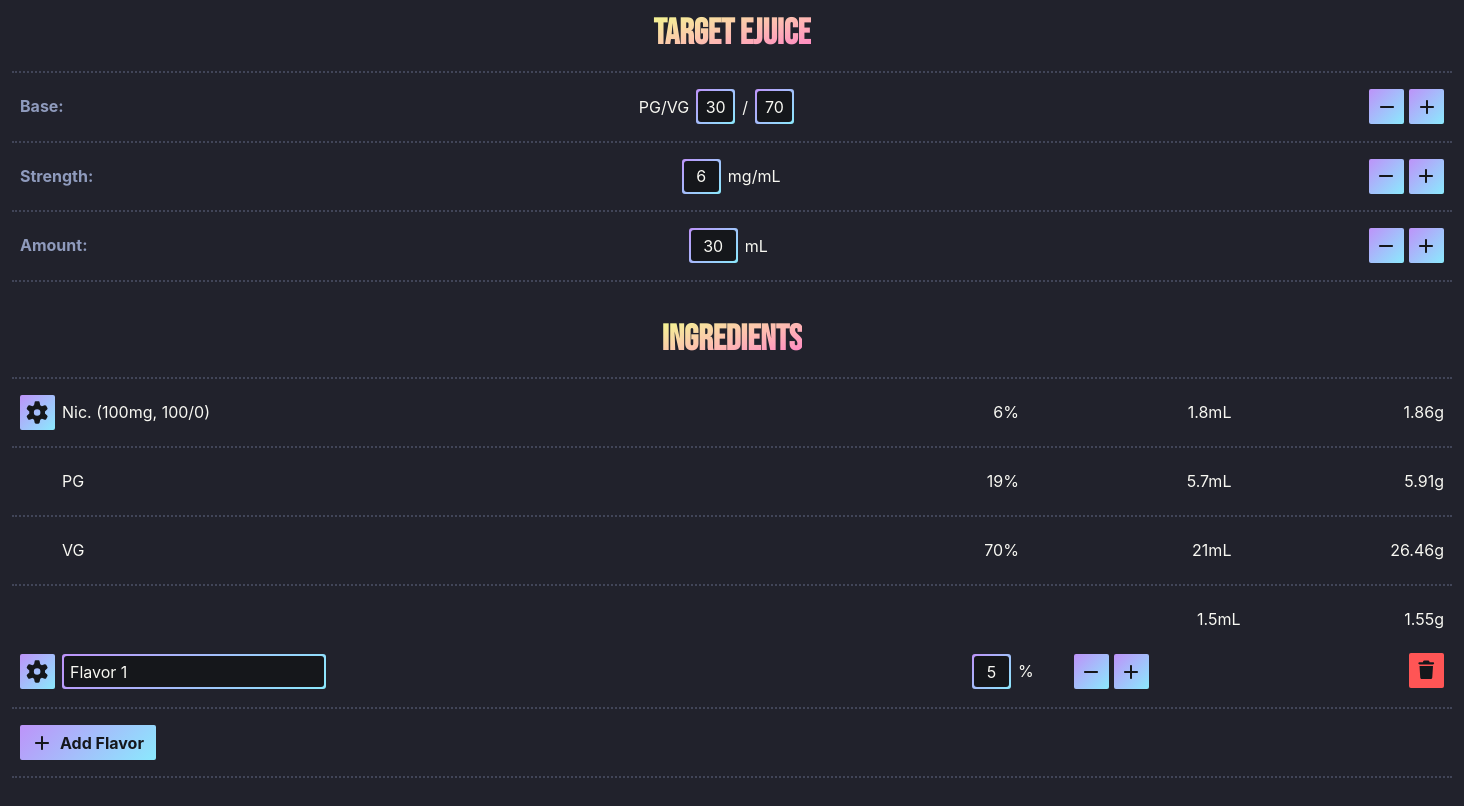
Test: VG › is calculated correctly from the nicotine ratio
The width and height of the screenshot is (1464, 806).
Click the button with test id "nicConfigBtn" at (38, 412), box [20, 394, 55, 430]
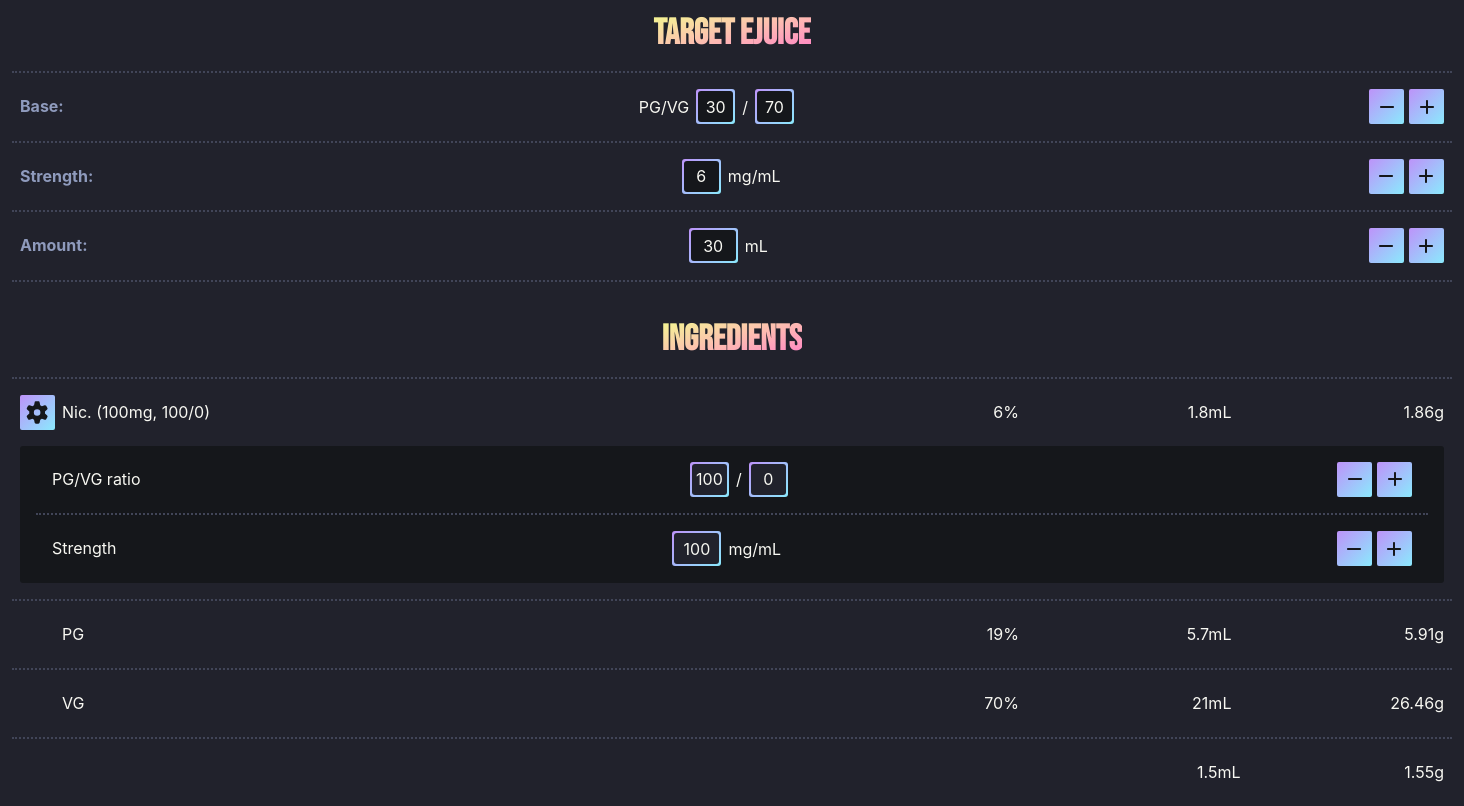
Replace the text in the number field with test id "nicConfigVgInput" with "100" at (768, 479), box [751, 464, 786, 494]
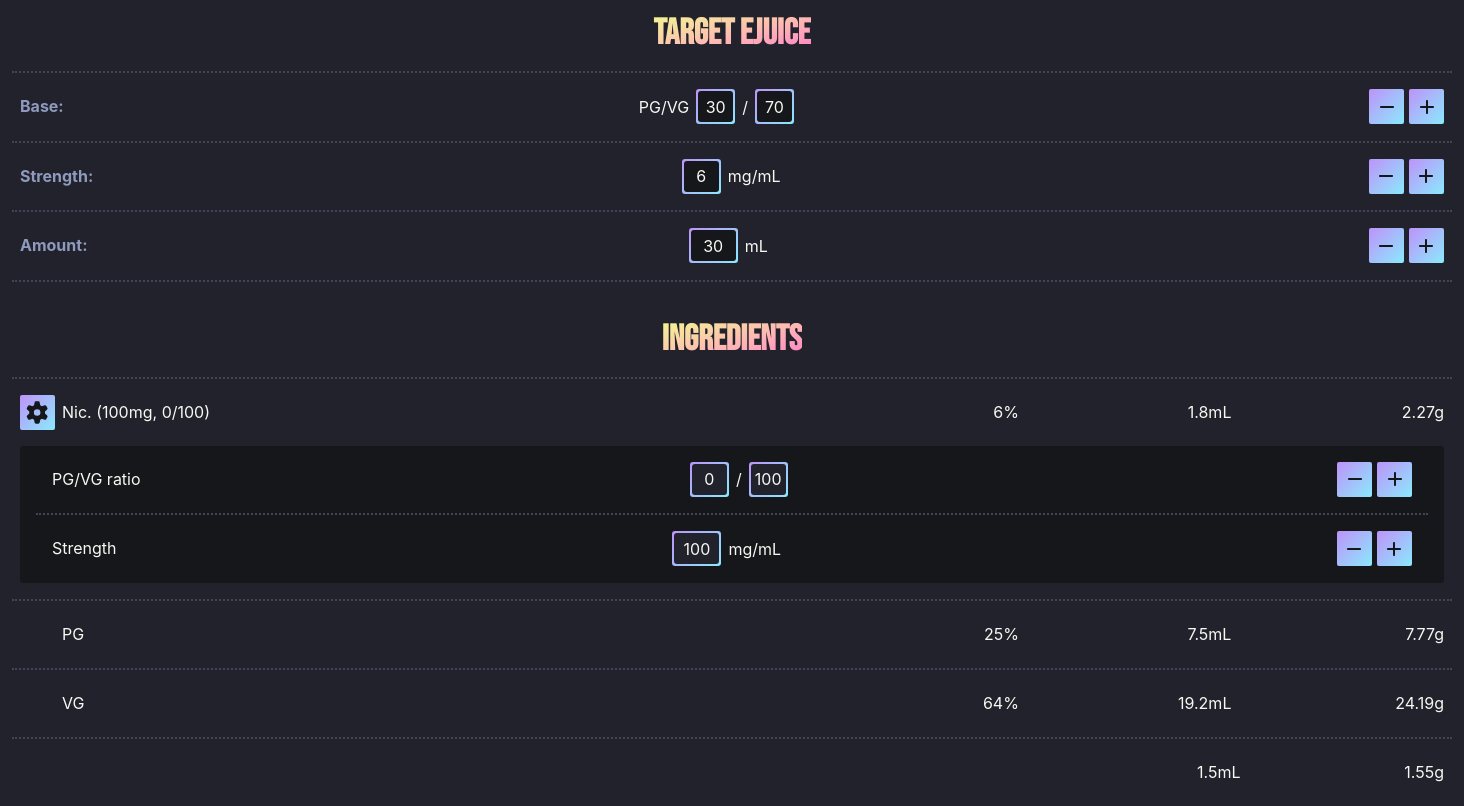
Expected: the text "19.2mL" is shown, [1178, 692, 1232, 712]
Expected: the text "24.19g" is shown, [1395, 692, 1444, 712]
